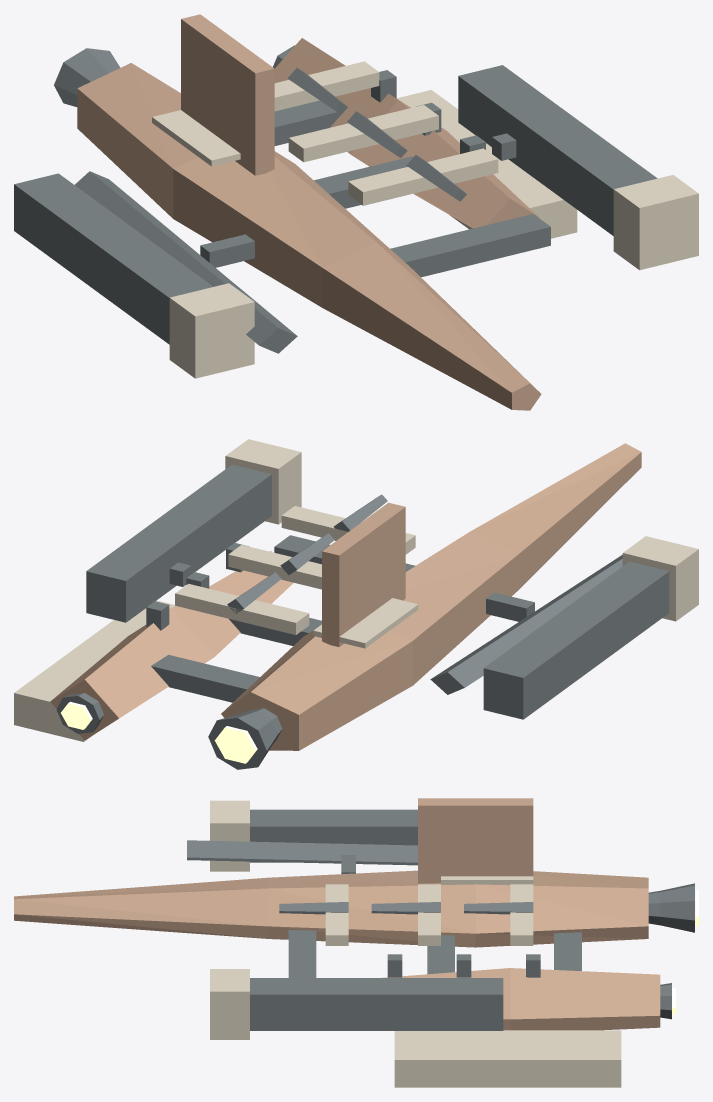
3 views of the same model, one above another, from view 1: azimuth 30°, elevation 25°; view 2: azimuth 150°, elevation 25°; view 3: azimuth 270°, elevation 25° (orthographic). The views are drawn at different scales.
Size of the model in its own units: 13.55 by 5.73 by 20.56.
